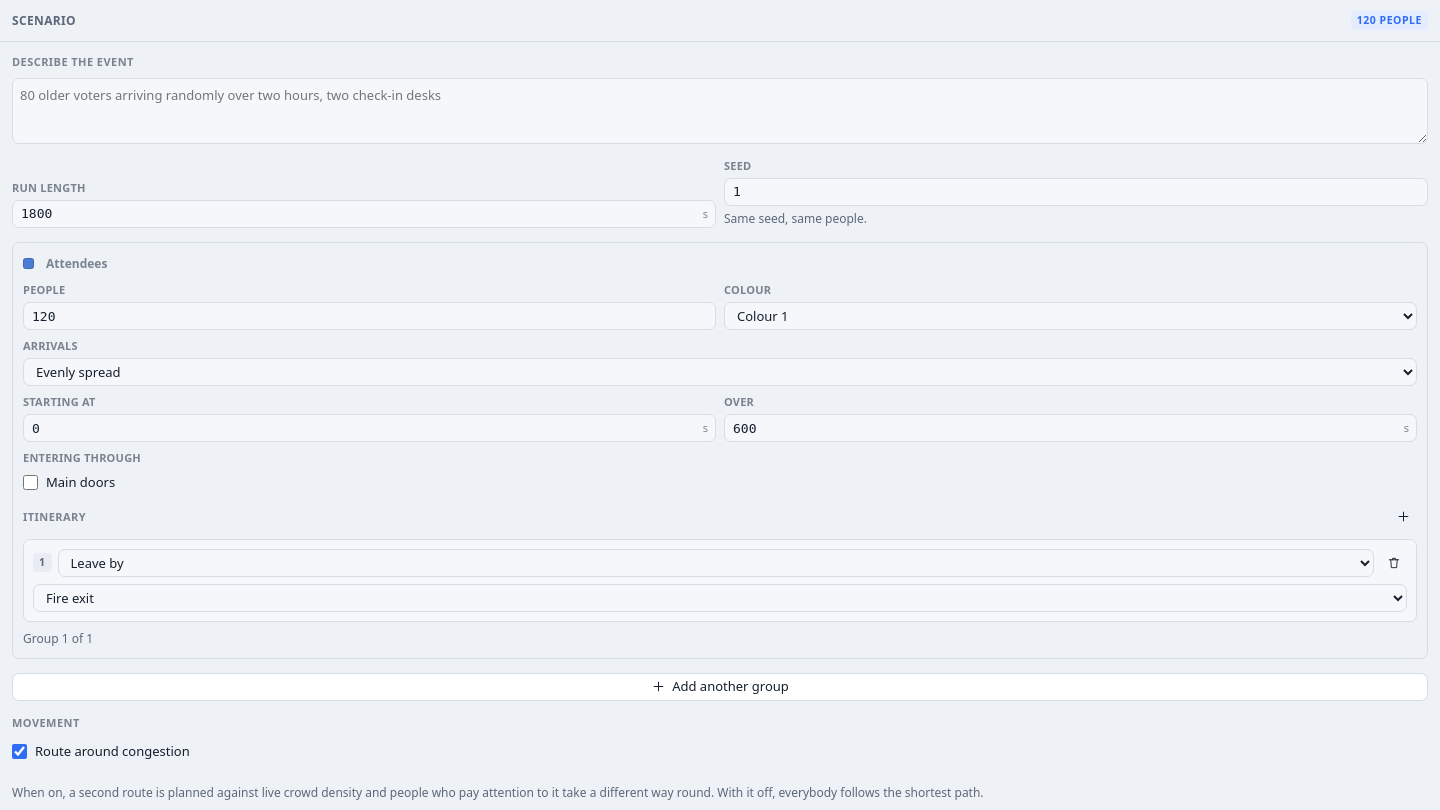
Test: the itinerary › holds the destination it shows when a step is changed to another kind
The image size is (1440, 810).
Select "Queue at" in the 1st dropdown showing "Leave by" at (716, 563), box [58, 549, 1374, 577]
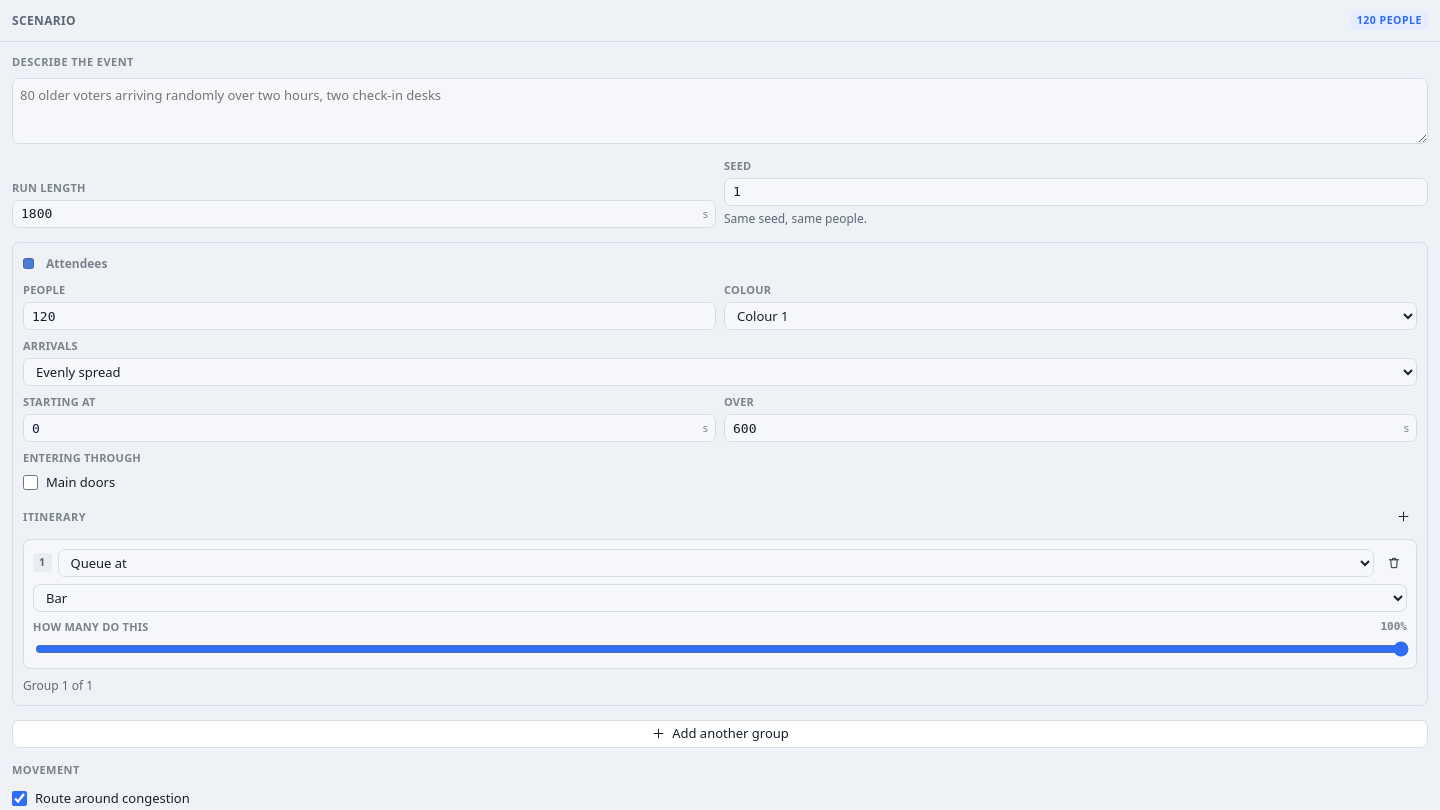
Check: the 2nd dropdown showing "Bar" is shown, box [33, 584, 1407, 612]
Note: Every kind goes the same way, so it is not something about counters.
Select "Go to" in the 1st dropdown showing "Queue at" at (716, 563), box [58, 549, 1374, 577]
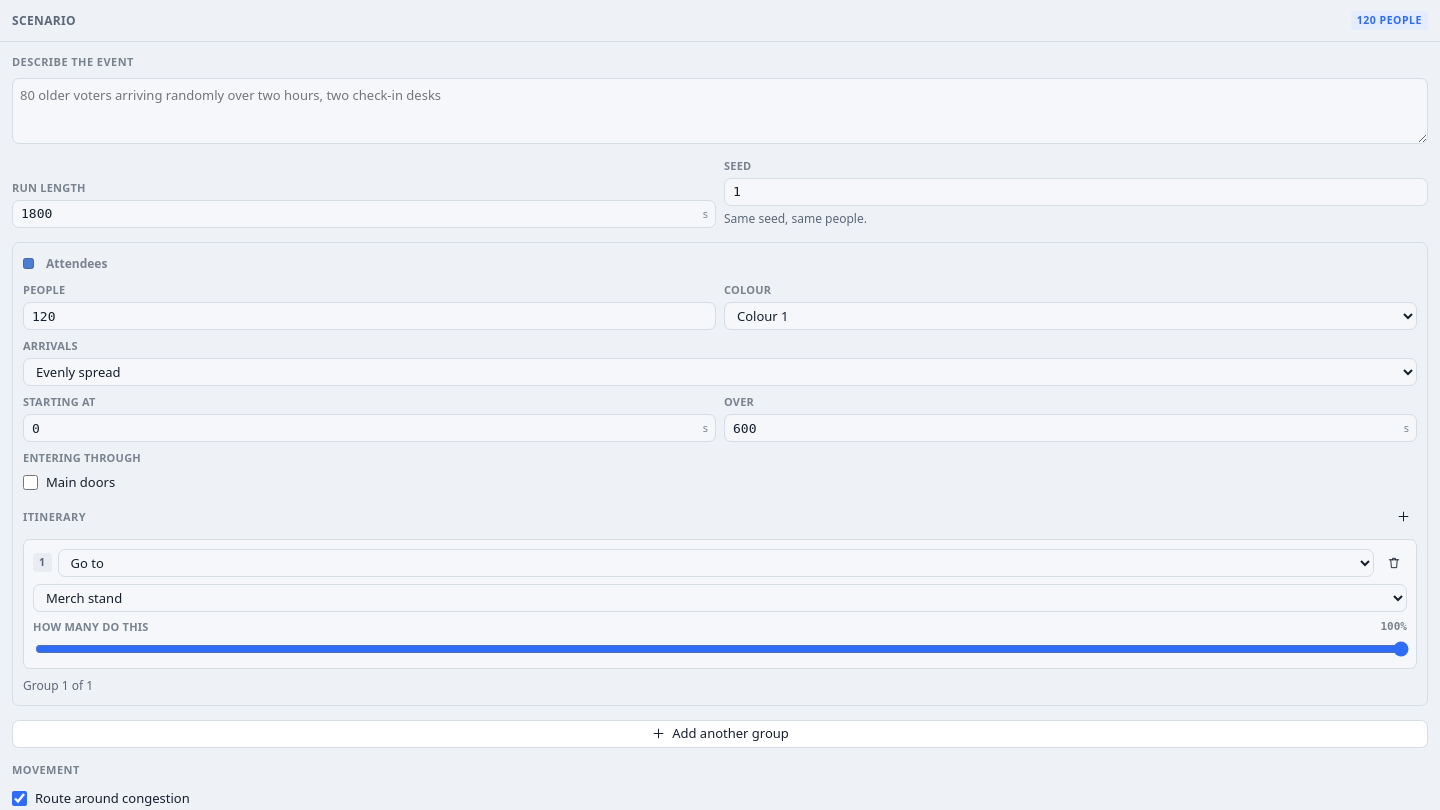
Check: the 2nd dropdown showing "Merch stand" is shown, box [33, 584, 1407, 612]
